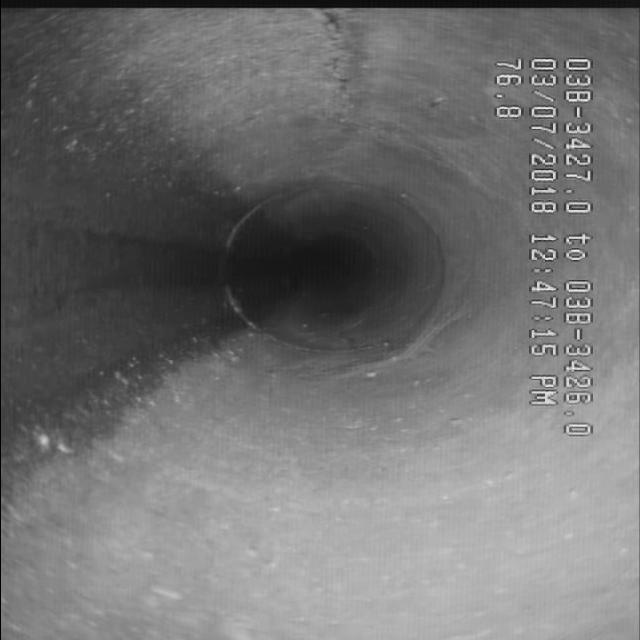Crack: (284, 12, 398, 144)
